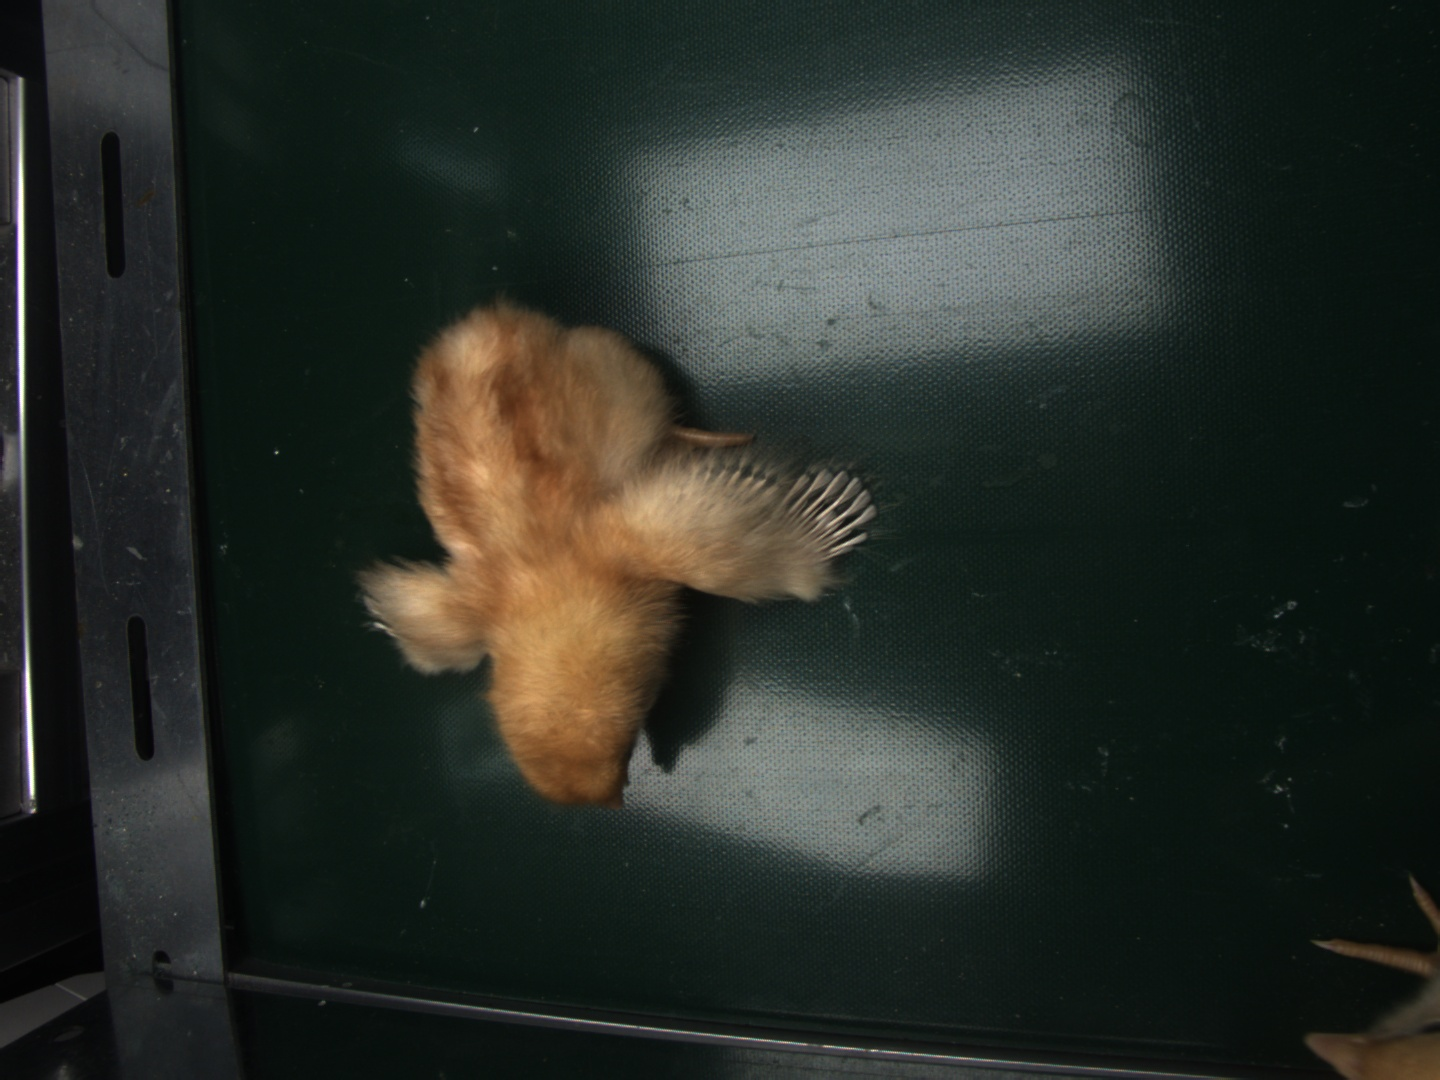female: (781, 465, 881, 559)
